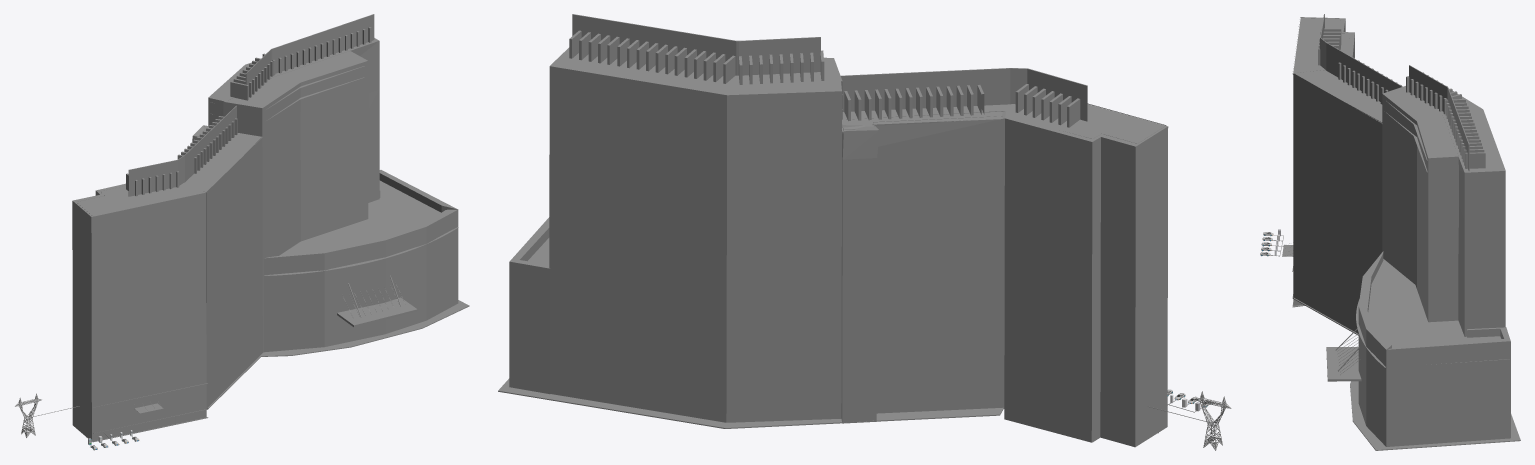
Rendered from renji.FBX.
The picture shows the model from 3 angles, left to right: view 1: azimuth 30°, elevation 25°; view 2: azimuth 150°, elevation 25°; view 3: azimuth 270°, elevation 25°; orthographic projection. The views are drawn at different scales.
Parts seen in each view (by area): view 1: ABlou, zhulou; view 2: ABlou, zhulou, gaoyadian; view 3: ABlou, zhulou.
Part boxes in pixels (x1=…): ABlou: x1=177, y1=14, x2=469, y2=408; zhulou: x1=72, y1=155, x2=208, y2=442; ABlou: x1=498, y1=14, x2=1010, y2=428; zhulou: x1=1001, y1=68, x2=1168, y2=447; gaoyadian: x1=1195, y1=391, x2=1231, y2=450; ABlou: x1=1293, y1=42, x2=1520, y2=450; zhulou: x1=1282, y1=14, x2=1354, y2=307.
Bounding box in the file's own units: 182 × 102 × 83.27.
